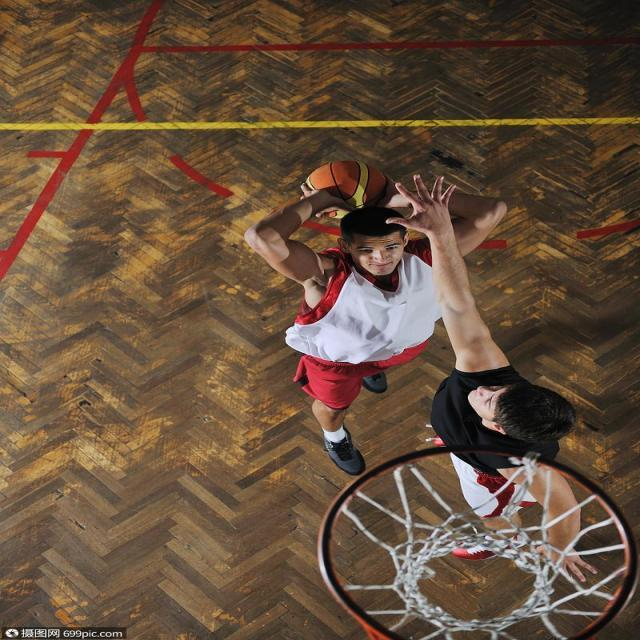rim: (307, 160, 393, 208)
